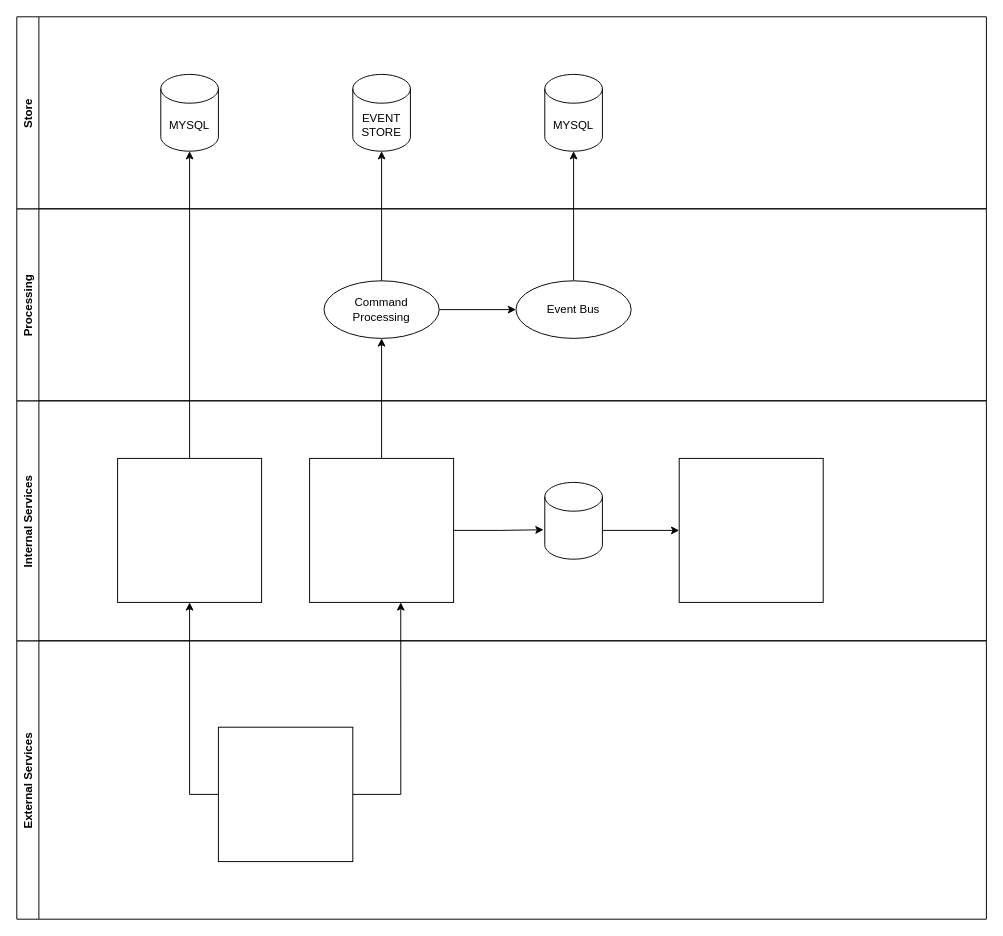
Some shapes in this 1003 by 936 pixel diagram are drawn without their labels. Here are the shapes that lost their labels. From the top down, the centre of each, then its label:
At [189,529]: "USER-SERVICE 7071".
At [381,529]: "DELIVER-SERVICE 7072".
At [573,520]: "KAFKA".
At [750,529]: "NOTIFICATION-SERVICE 7073".
At [285,794]: "GATEWAY 8280".
